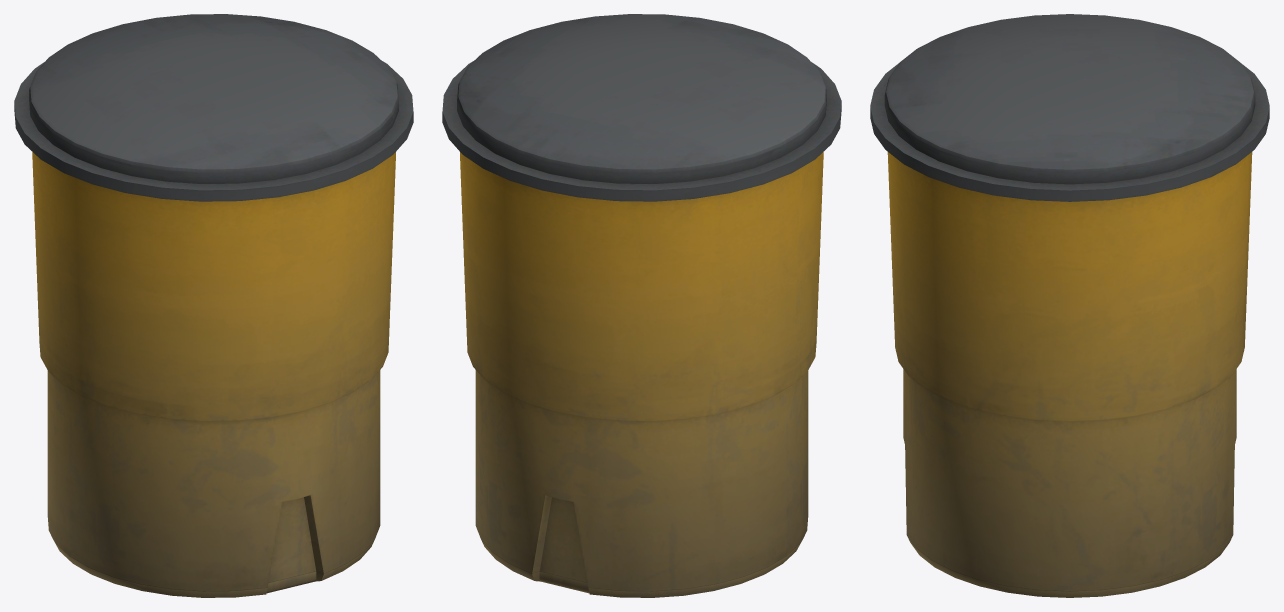
File: highway_barrel001.glb
The picture shows the model from 3 angles, left to right: view 1: azimuth 30°, elevation 25°; view 2: azimuth 150°, elevation 25°; view 3: azimuth 270°, elevation 25°; orthographic projection.
Parts seen in each view (by area): view 1: highway_barrel001; view 2: highway_barrel001; view 3: highway_barrel001.
Part boxes in pixels (<box>): highway_barrel001: <box>14,14,413,597</box>; highway_barrel001: <box>442,14,841,597</box>; highway_barrel001: <box>870,14,1269,597</box>.
Bounding box in the file's own units: 0.9144 × 1.15 × 0.9144.
Materials: 1 (1 with a texture image).
